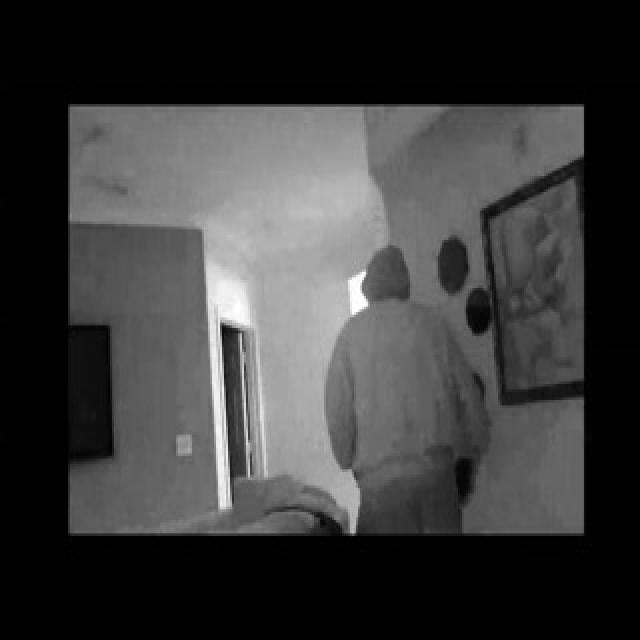thief: (346, 237, 422, 340)
